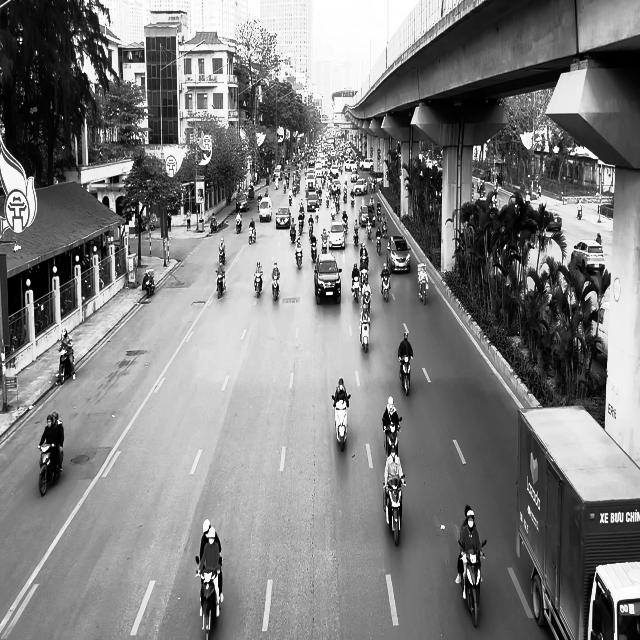car: (314, 252, 342, 304), (571, 238, 605, 275), (386, 234, 411, 273), (328, 222, 346, 249), (275, 206, 292, 228), (258, 196, 272, 222), (546, 209, 562, 231), (236, 192, 250, 212)
motorbike: (456, 526, 486, 627), (195, 555, 222, 639), (382, 474, 406, 546), (38, 443, 63, 496), (331, 393, 350, 451), (382, 417, 402, 458), (55, 348, 76, 386), (359, 303, 371, 352), (398, 356, 412, 395), (142, 270, 154, 298), (215, 270, 226, 298), (380, 272, 390, 302), (418, 278, 428, 304), (271, 274, 280, 300), (294, 240, 302, 268), (254, 273, 262, 298), (248, 226, 256, 244), (235, 214, 242, 233)
truck: (516, 403, 640, 639)
